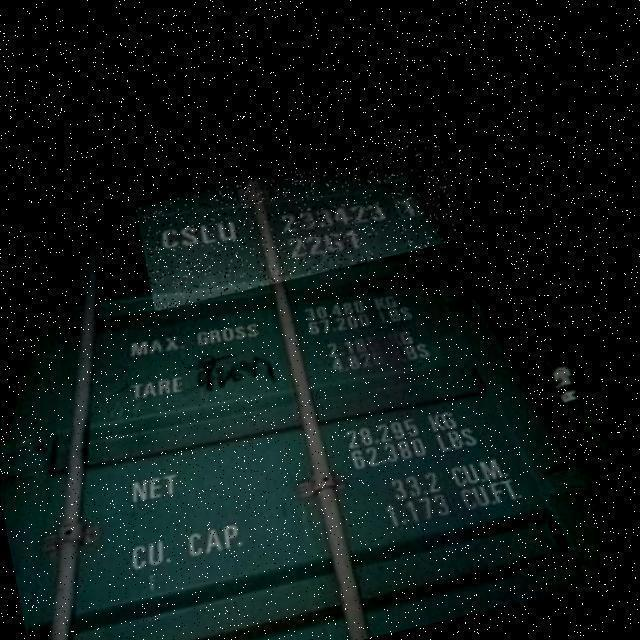ISO: (290, 222, 356, 258)
container_number: (162, 199, 419, 246)
